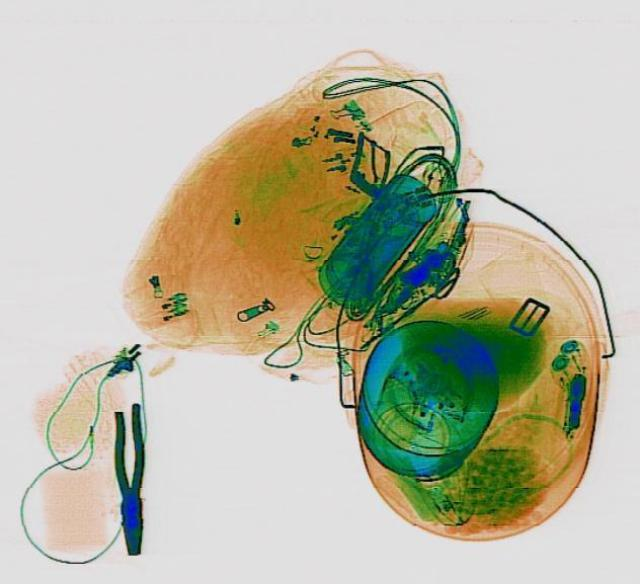Pliers: (110, 401, 148, 554)
